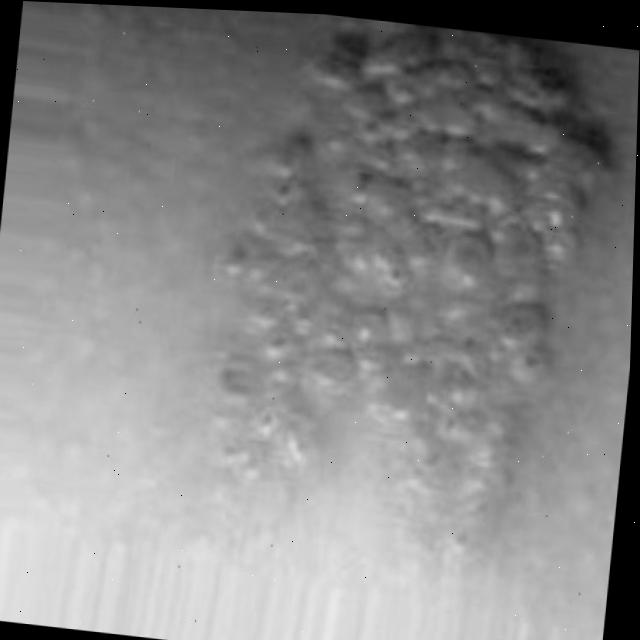Shingles: (194, 9, 632, 577)
